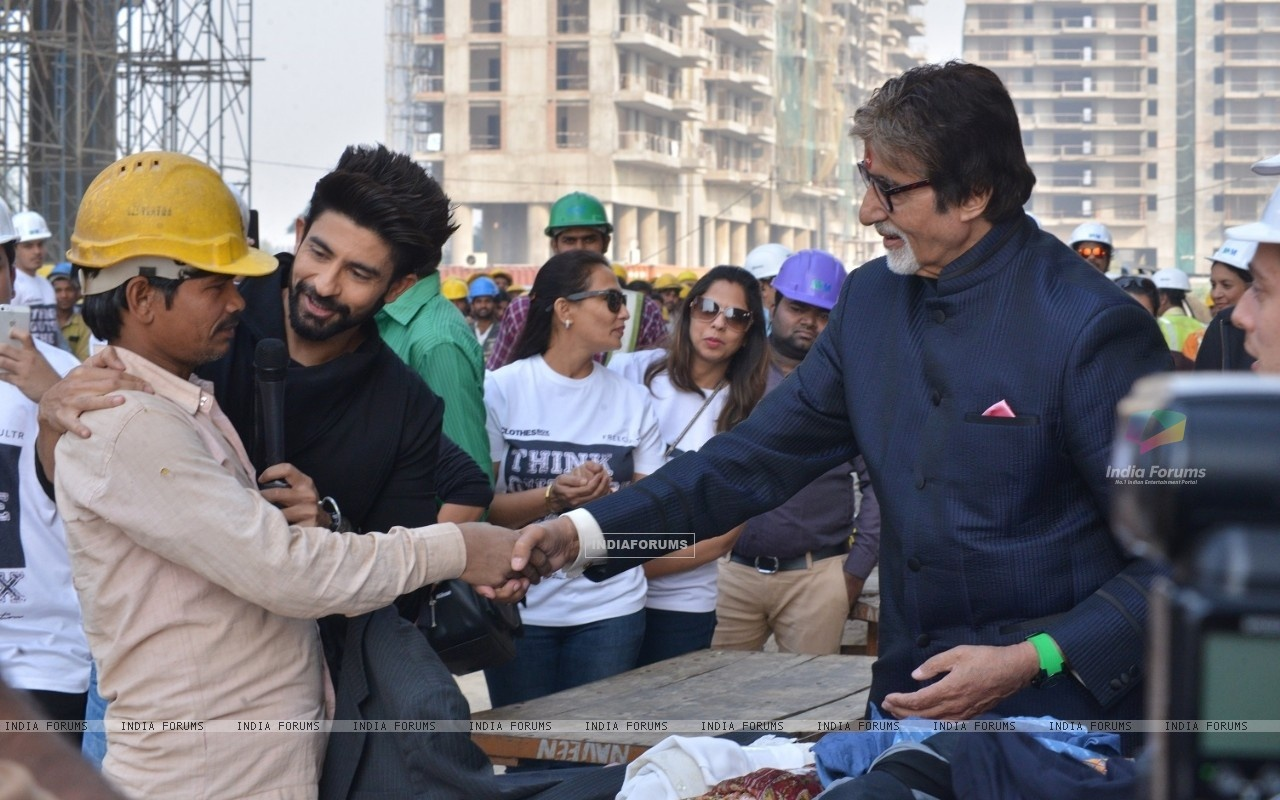blue: (770, 248, 845, 347), (46, 263, 79, 312), (467, 276, 496, 318)
none: (849, 52, 1027, 268), (285, 152, 431, 334), (530, 249, 628, 359), (681, 265, 761, 365), (493, 292, 511, 318)
white: (1207, 241, 1250, 307), (745, 240, 790, 301), (1066, 221, 1112, 277), (10, 212, 48, 270), (1149, 264, 1190, 313)
yellow: (653, 274, 678, 310), (442, 279, 467, 312), (491, 268, 512, 290)
